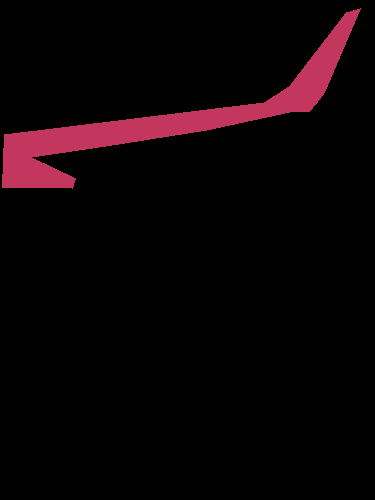Airplane: (2, 8, 360, 189)
